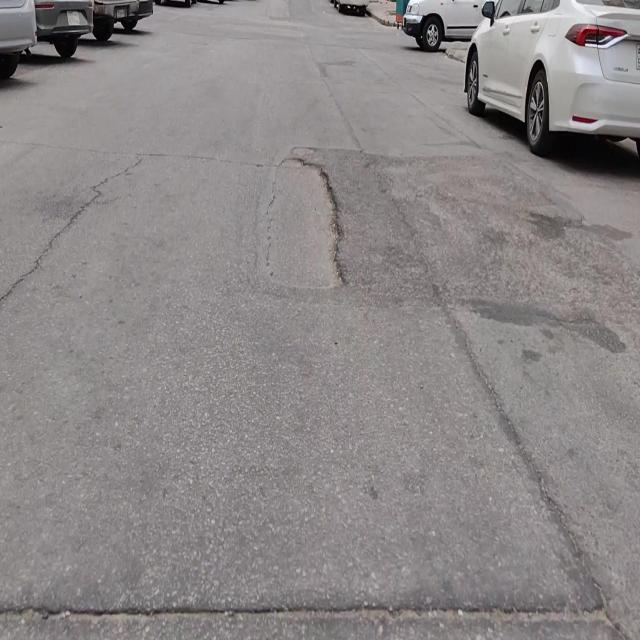Pothole: (264, 153, 345, 291)
